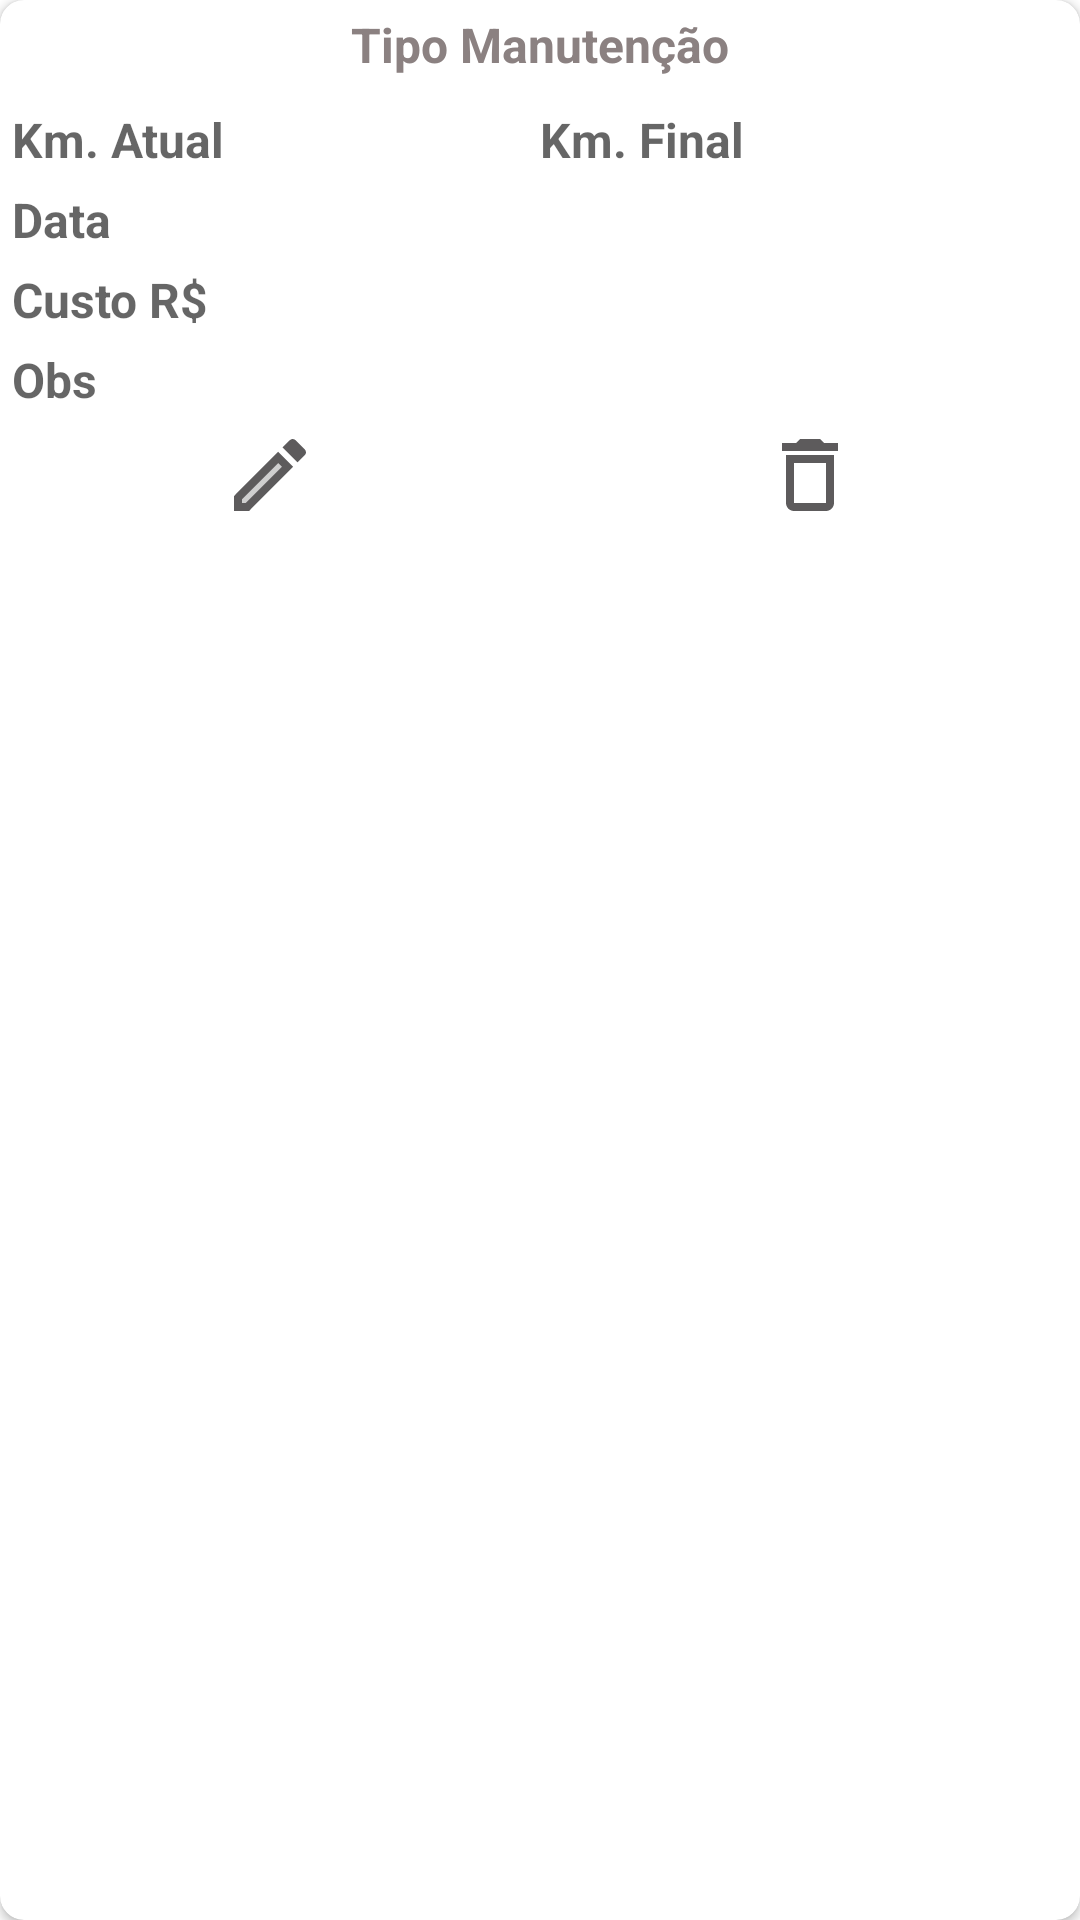

Point at icon controls on the screen. Image size 1080x1920, points as point (x, y).
delete: point (810, 475)
editat manutencao: point (270, 475)
